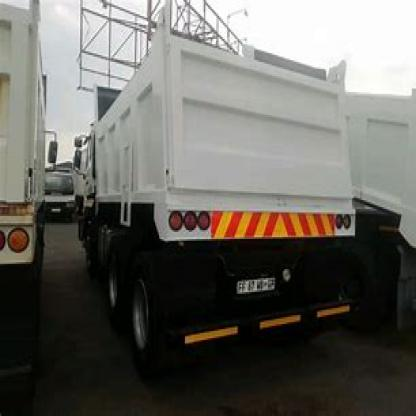dump_truck: (62, 34, 368, 361)
